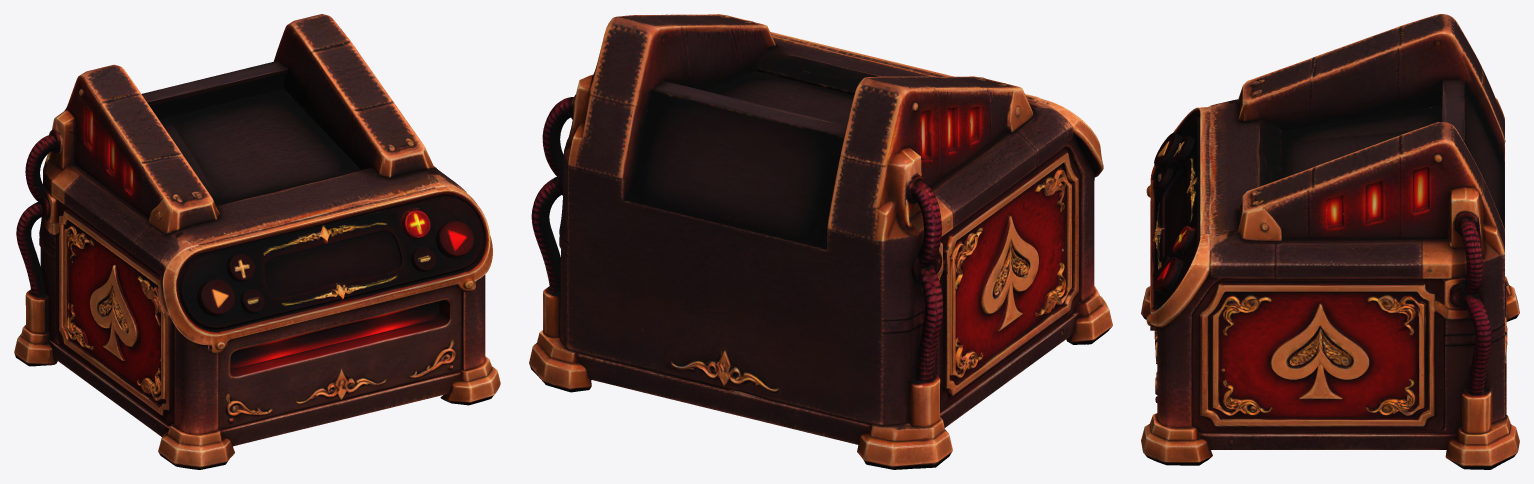
File: shufle_high.glb
The picture shows the model from 3 angles, left to right: view 1: azimuth 30°, elevation 25°; view 2: azimuth 150°, elevation 25°; view 3: azimuth 270°, elevation 25°; orthographic projection. The views are drawn at different scales.
Parts seen in each view (by area): view 1: Mesh_0; view 2: Mesh_0; view 3: Mesh_0.
Boxes of the visible parts, x1,y1,x2,y2 form: Mesh_0: (14,14,500,469); Mesh_0: (529,14,1112,469); Mesh_0: (1141,14,1519,469).
Size of the model in its own units: 0.8048 by 0.6528 by 0.7297.
Materials: 1 (1 with a texture image).
